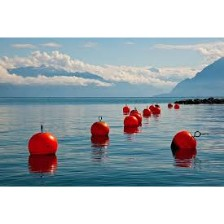buoy: (27, 132, 58, 160), (174, 131, 197, 154), (90, 121, 108, 137), (124, 116, 138, 129), (153, 106, 161, 115), (123, 107, 130, 113), (167, 103, 172, 109), (174, 104, 179, 109)
